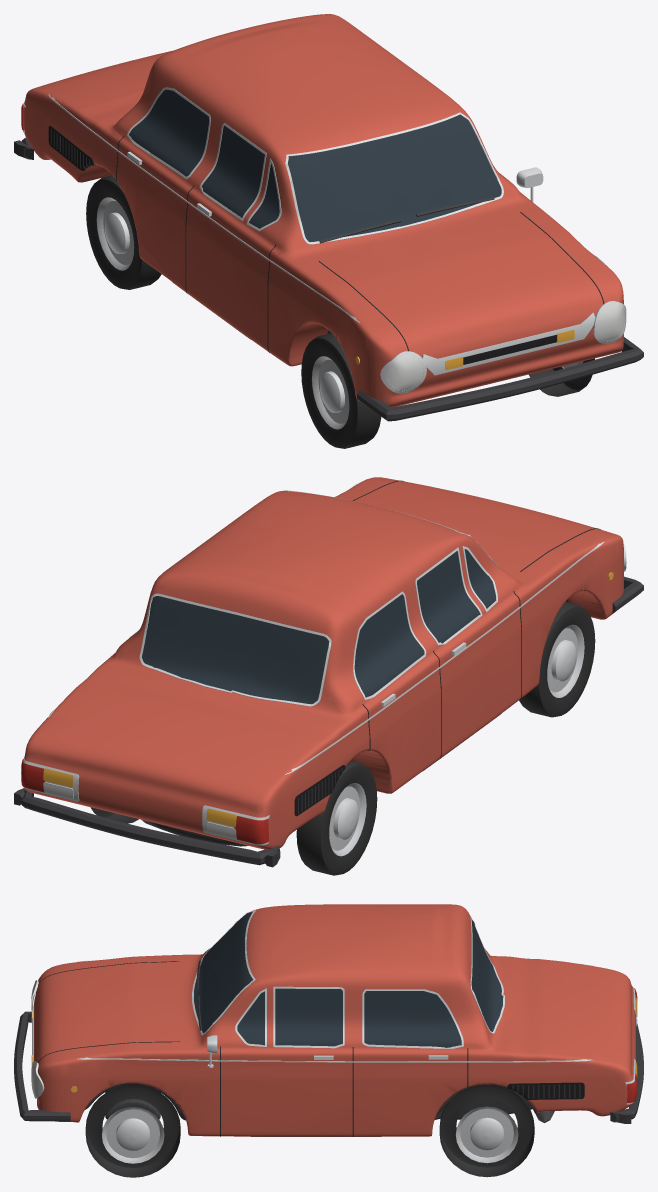
File: zaz968.glb
3 views of the same model, one above another, from view 1: azimuth 30°, elevation 25°; view 2: azimuth 150°, elevation 25°; view 3: azimuth 270°, elevation 25° (orthographic). The views are drawn at different scales.
Parts seen in each view (by area): view 1: paint, glass, trim, wheel_fr, wheel_rr, headlights, wheel_fl; view 2: paint, glass, trim, wheel_rr, wheel_fr, taillights, reverse_lights; view 3: paint, glass, trim, wheel_rl, wheel_fl.
Part boxes in pixels (x1,y1,x2,y2): paint: (24,14,623,407); glass: (129,89,501,242); trim: (14,87,643,421); wheel_fr: (301,333,381,448); wheel_rr: (86,175,161,289); headlights: (386,305,625,390); wheel_fl: (529,358,594,396); paint: (24,477,623,849); glass: (142,549,495,704); trim: (14,480,643,867); wheel_rr: (296,761,377,875); wheel_fr: (519,601,595,717); taillights: (21,759,268,844); reverse_lights: (43,782,236,839); paint: (33,904,635,1136); glass: (194,912,503,1047); trim: (14,910,643,1136); wheel_rl: (439,1084,534,1177); wheel_fl: (85,1084,180,1177).
Bounding box in the file's own units: 1.56 × 1.37 × 3.84.
